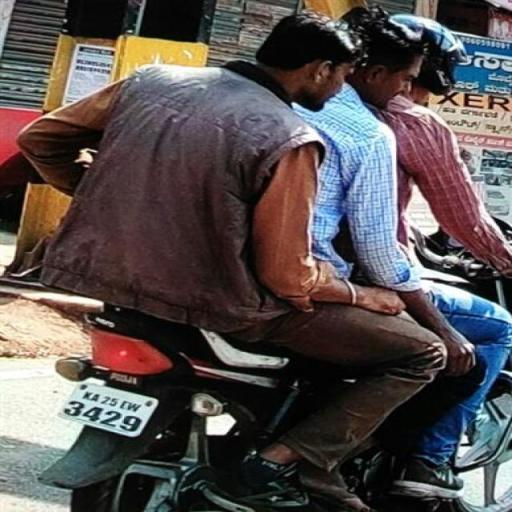tripple riding: (11, 10, 505, 308)
